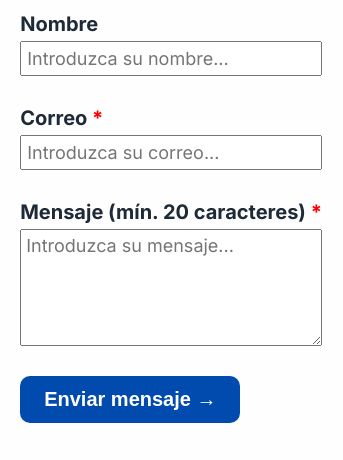
Scenario: ContactForm component test suite › should display an error message and apply the class if the name is incorrect
The image size is (343, 460).
In the field named "name-input": (171, 58) [20,41,322,76], type "t"
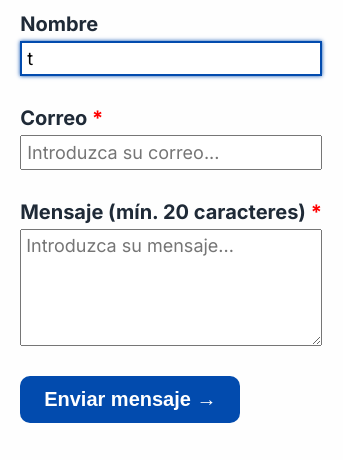
In the field named "email-input": (171, 152) [20,135,322,170], type "testname@email.com"
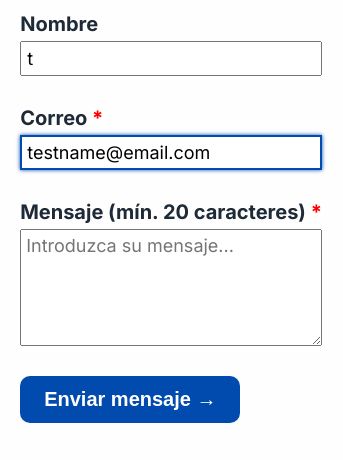
In the text box named "msg-input": (171, 288) [20,229,322,346], type "Lorem ipsum dolor sit amet consecterum asasa asdad asdad"
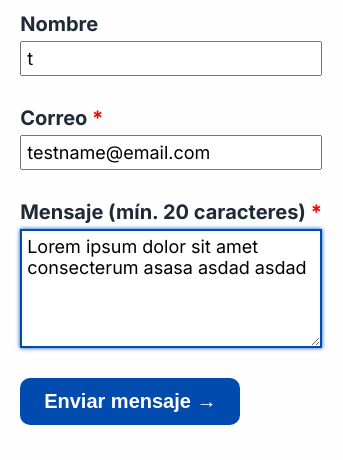
Click the button: (130, 402) [20,378,240,425]
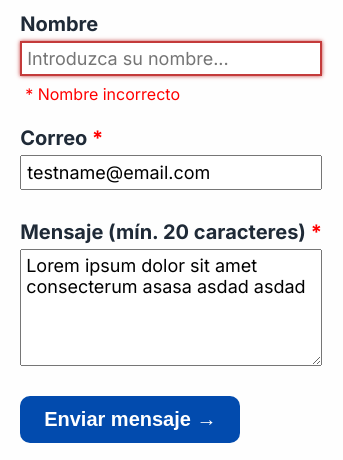
Check: the message "* Nombre incorrecto" is shown, box [25,84,180,104]
Check: the field named "name-input" is empty, box [20,41,322,76]
